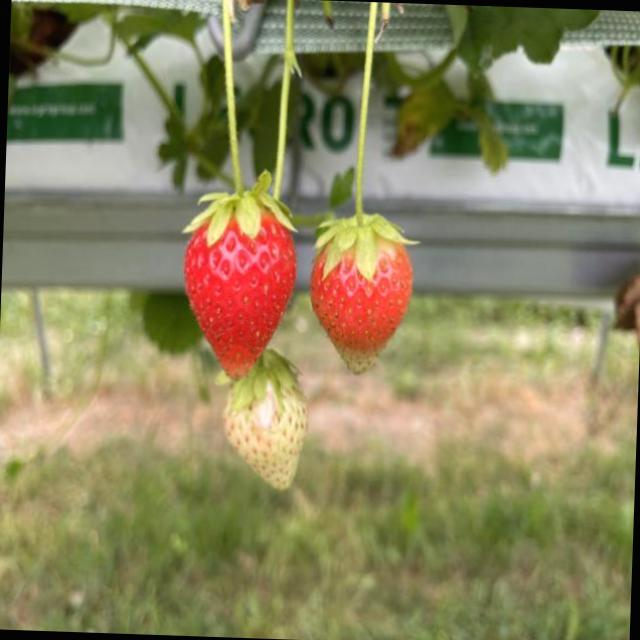stem: (315, 1, 411, 278), (183, 0, 291, 244)
strawberryNR: (223, 381, 305, 489)
strawberryR: (182, 215, 294, 376), (309, 248, 411, 371)
